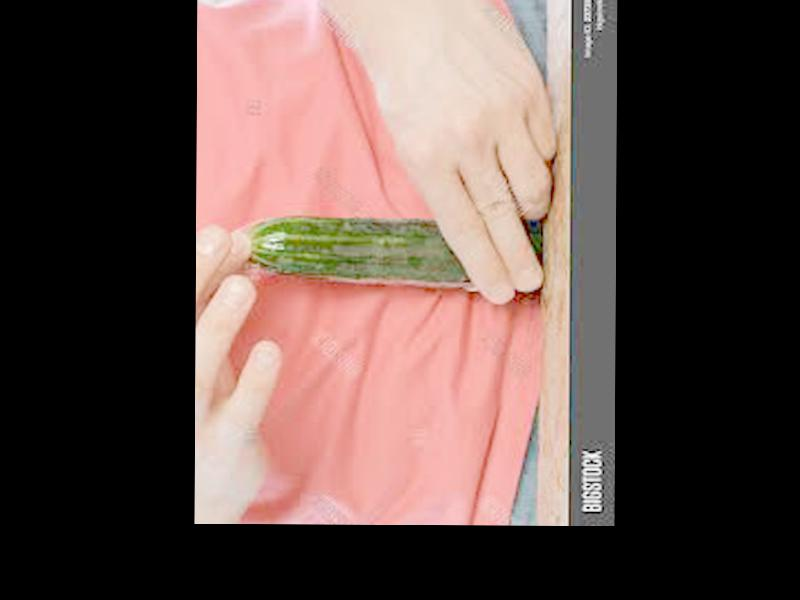Cucumber: (248, 215, 473, 286)
